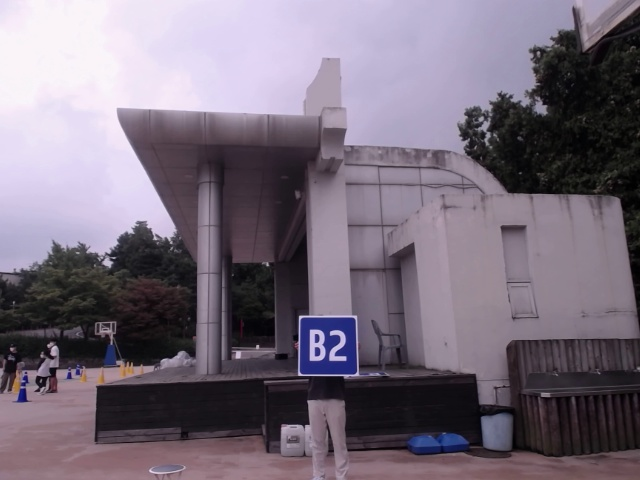delivery_b2: (300, 314, 359, 377)
